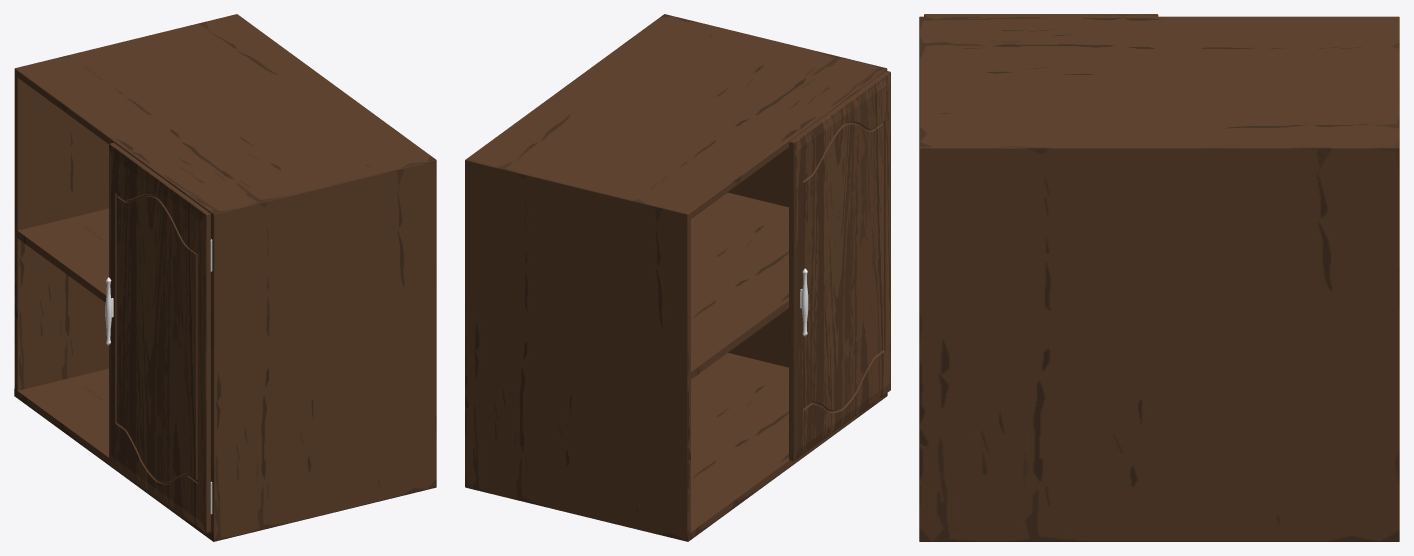
File: bot - cab - one door.fbx
3 renders of one model, left to right at view 1: azimuth 30°, elevation 25°; view 2: azimuth 150°, elevation 25°; view 3: azimuth 270°, elevation 25°, orthographic. The views are drawn at different scales.
Parts seen in each view (by area): view 1: Top - Cab - bottom004, cab - door014; view 2: Top - Cab - bottom004, cab - door014; view 3: Top - Cab - bottom004, cab - door014.
Boxes of the visible parts, x1=… form: Top - Cab - bottom004: x1=14, y1=14, x2=436, y2=541; cab - door014: x1=105, y1=142, x2=210, y2=533; Top - Cab - bottom004: x1=465, y1=14, x2=887, y2=541; cab - door014: x1=789, y1=70, x2=890, y2=461; Top - Cab - bottom004: x1=919, y1=16, x2=1399, y2=541; cab - door014: x1=924, y1=14, x2=1158, y2=16.
Size of the model in its own units: 103 by 136 by 150.
